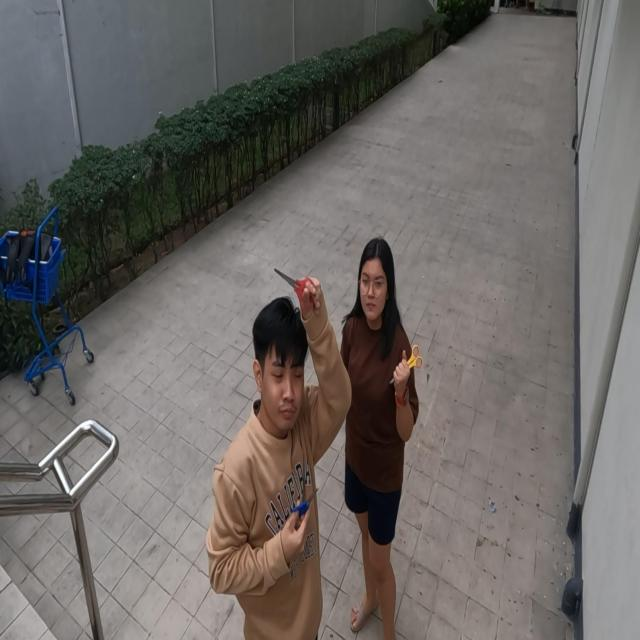scissor: (274, 267, 317, 317), (389, 342, 423, 385), (289, 486, 319, 525)
